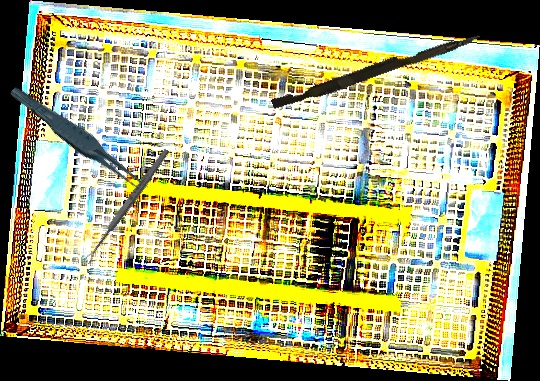Pusher: (270, 25, 482, 115)
Surgical Spoon: (82, 147, 171, 265)
Tissue Forceps: (8, 76, 151, 205)
